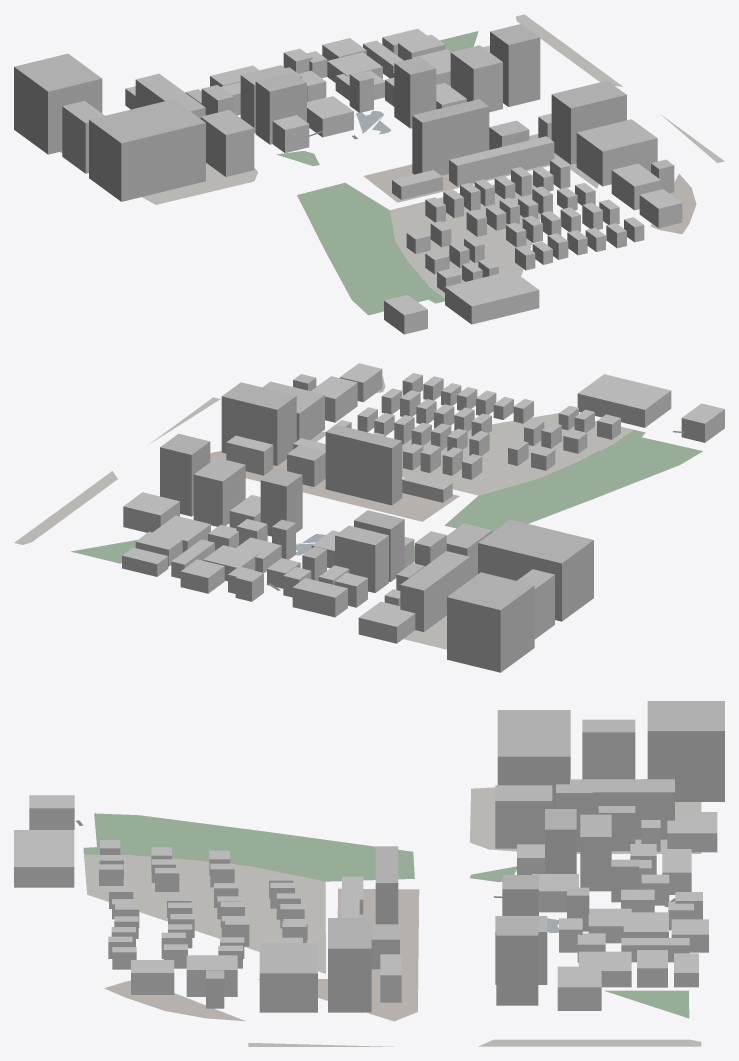
Rendered from 116_79_mid.glb.
The picture shows the model from 3 angles, top to bottom: view 1: azimuth 30°, elevation 25°; view 2: azimuth 150°, elevation 25°; view 3: azimuth 270°, elevation 25°; orthographic projection. The views are drawn at different scales.
Bounding box in the file's own units: 499 × 60.26 × 544.
